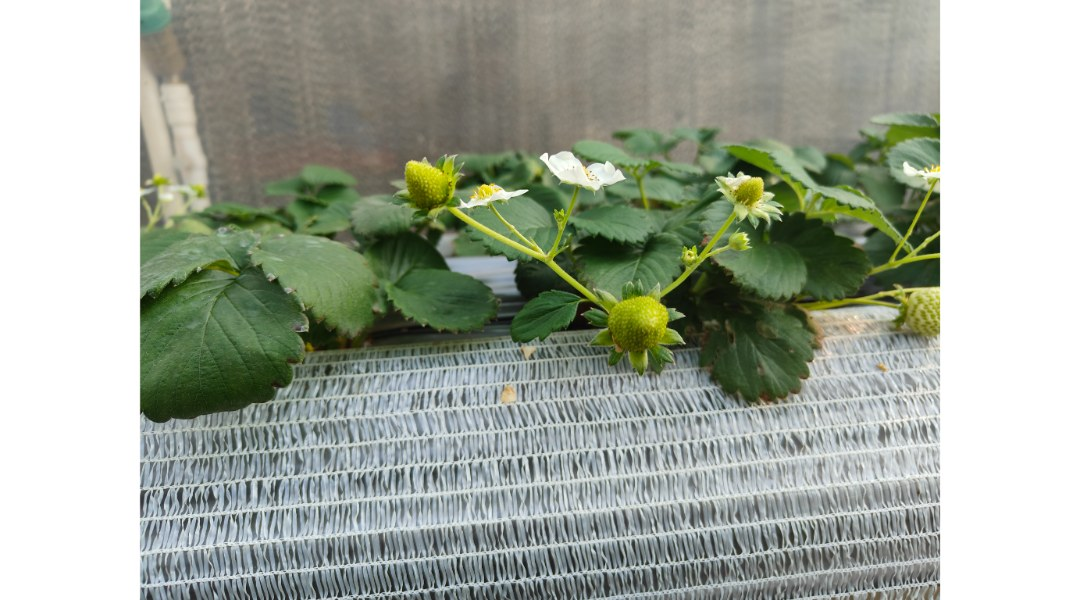berry: (594, 284, 688, 376), (387, 146, 468, 229)
flower: (704, 163, 801, 229), (541, 141, 628, 191), (463, 181, 530, 206)
strain: (660, 208, 733, 299), (456, 207, 544, 271), (550, 190, 582, 257), (561, 263, 610, 305), (492, 207, 536, 247), (711, 239, 730, 259)
